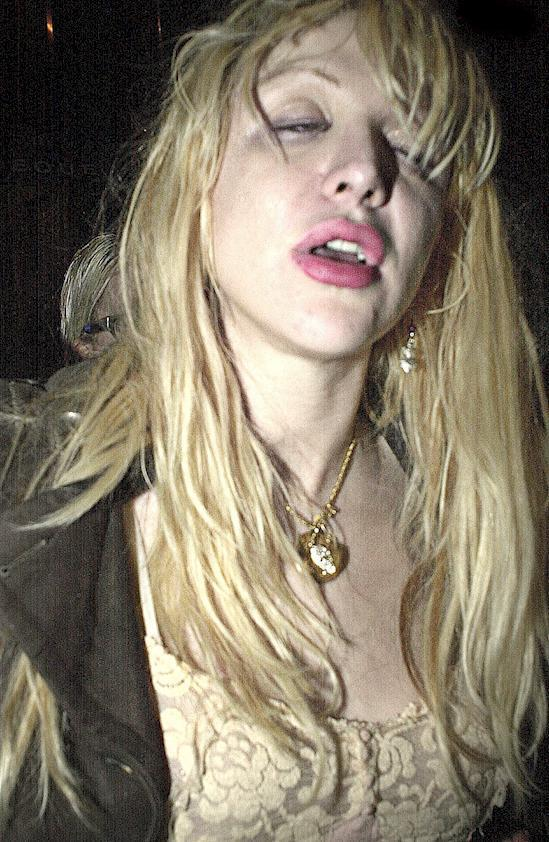Drunk: (225, 44, 438, 352)
